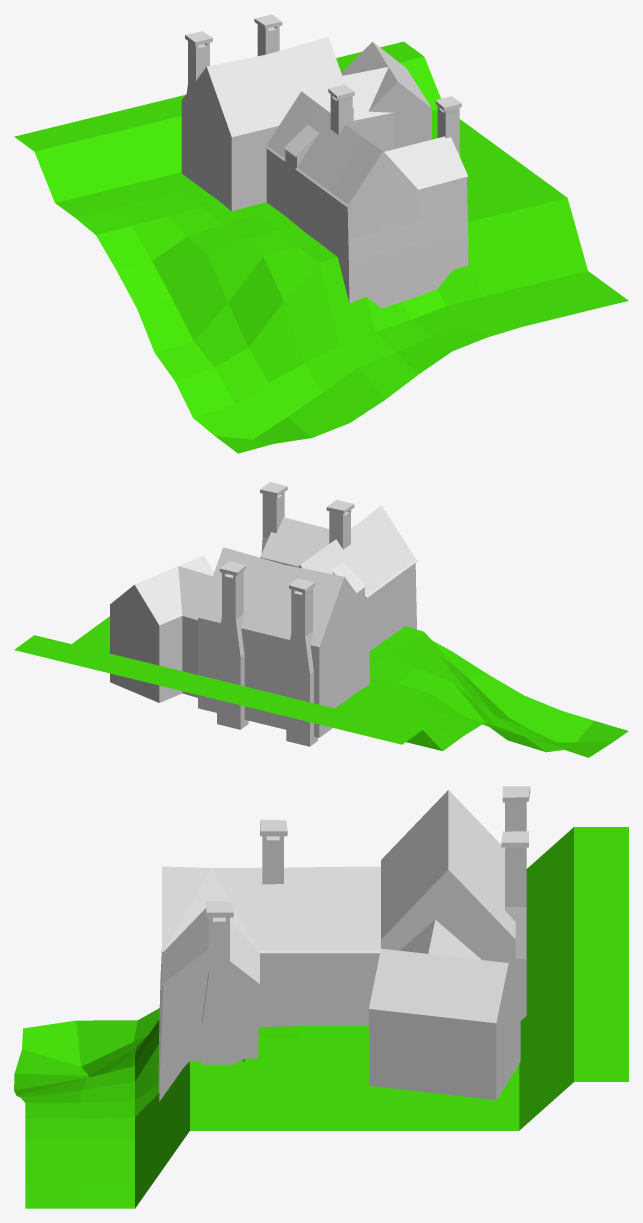
File: Large_Farmhouse.glb
The picture shows the model from 3 angles, top to bottom: view 1: azimuth 30°, elevation 25°; view 2: azimuth 150°, elevation 25°; view 3: azimuth 270°, elevation 25°; orthographic projection. The views are drawn at different scales.
Visible parts, largest first — view 1: GroundLevel, Building01-col, Roof02-col, Building02-col, Roof01-col, Chimneys; view 2: GroundLevel, Building02-col, Roof02-col, Chimneys, Roof01-col, Building01-col; view 3: GroundLevel, Roof02-col, Roof01-col, Building02-col, Building01-col, Chimneys.
Boxes of the visible parts, <box> form: GroundLevel: <box>14,41,628,453</box>; Building01-col: <box>265,134,468,308</box>; Roof02-col: <box>207,37,431,137</box>; Building02-col: <box>181,67,431,211</box>; Roof01-col: <box>265,91,467,206</box>; Chimneys: <box>185,14,461,156</box>; GroundLevel: <box>14,616,628,757</box>; Building02-col: <box>110,577,369,737</box>; Roof02-col: <box>134,547,344,647</box>; Chimneys: <box>217,482,354,746</box>; Roof01-col: <box>260,505,417,597</box>; Building01-col: <box>260,557,417,650</box>; GroundLevel: <box>14,827,628,1208</box>; Roof02-col: <box>369,790,515,1023</box>; Roof01-col: <box>162,866,380,983</box>; Building02-col: <box>369,869,520,1099</box>; Building01-col: <box>158,949,379,1101</box>; Chimneys: <box>202,786,530,1064</box>.
Size of what is drawn, in the model's own units: 11.36 by 7.08 by 11.41.
